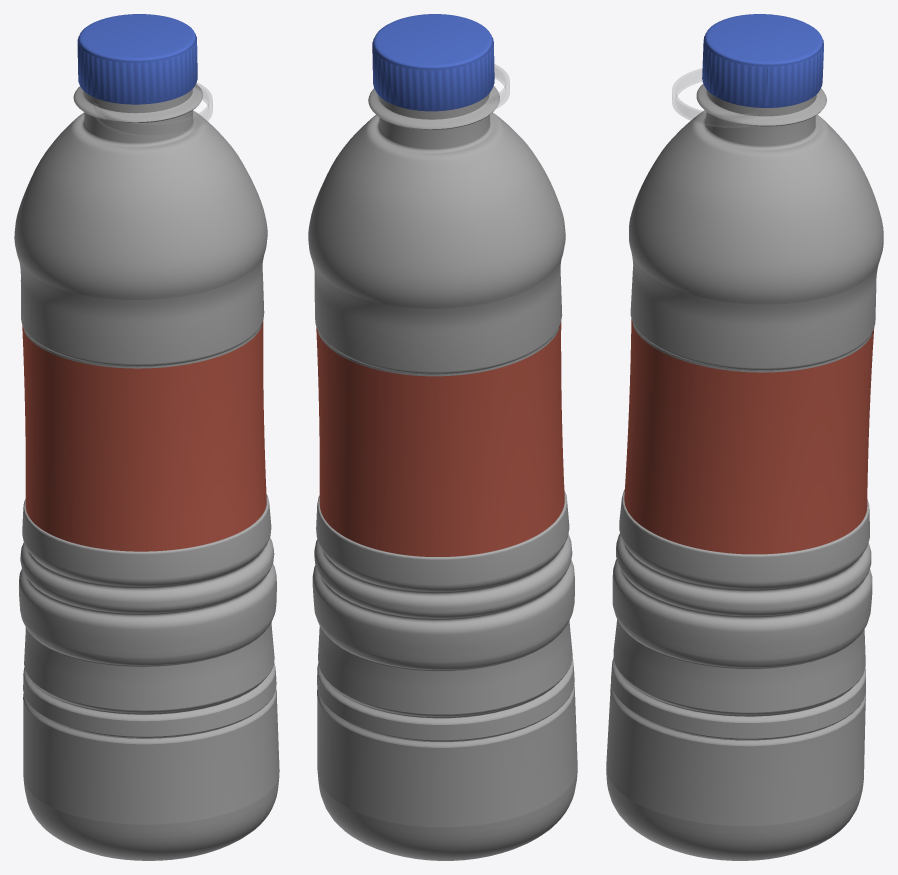
Rendered from bottle3.fbx.
The picture shows the model from 3 angles, left to right: view 1: azimuth 30°, elevation 25°; view 2: azimuth 150°, elevation 25°; view 3: azimuth 270°, elevation 25°; orthographic projection.
Visible parts, largest first — view 1: Bottle:Line002, Bottle:Tube001, Bottle:Cylinder001, Bottle:Tube006; view 2: Bottle:Line002, Bottle:Tube001, Bottle:Cylinder001; view 3: Bottle:Line002, Bottle:Tube001, Bottle:Cylinder001, Bottle:Tube006.
Part boxes in pixels (box(x1,y1,x2,y2)): Bottle:Line002: box(14, 84, 279, 860); Bottle:Tube001: box(22, 321, 266, 551); Bottle:Cylinder001: box(77, 14, 197, 104); Bottle:Tube006: box(93, 83, 212, 136); Bottle:Line002: box(308, 86, 577, 860); Bottle:Tube001: box(316, 321, 564, 556); Bottle:Cylinder001: box(372, 14, 494, 111); Bottle:Line002: box(606, 84, 883, 860); Bottle:Tube001: box(624, 318, 874, 554); Bottle:Cylinder001: box(702, 14, 823, 107); Bottle:Tube006: box(672, 68, 757, 127).
Bounding box in the file's own units: 0.8892 × 2.99 × 0.9474.
